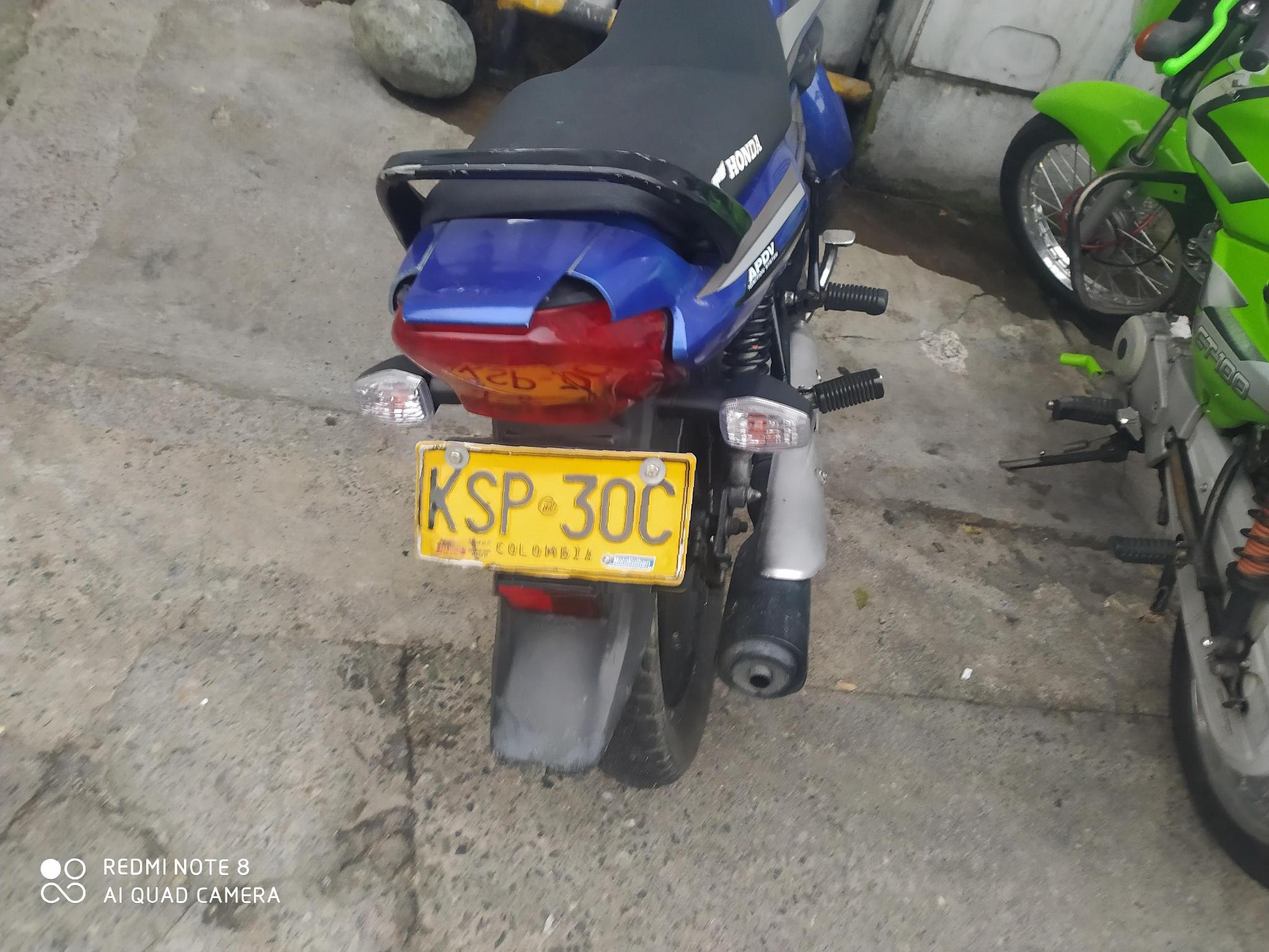placa: (394, 435, 709, 599)
